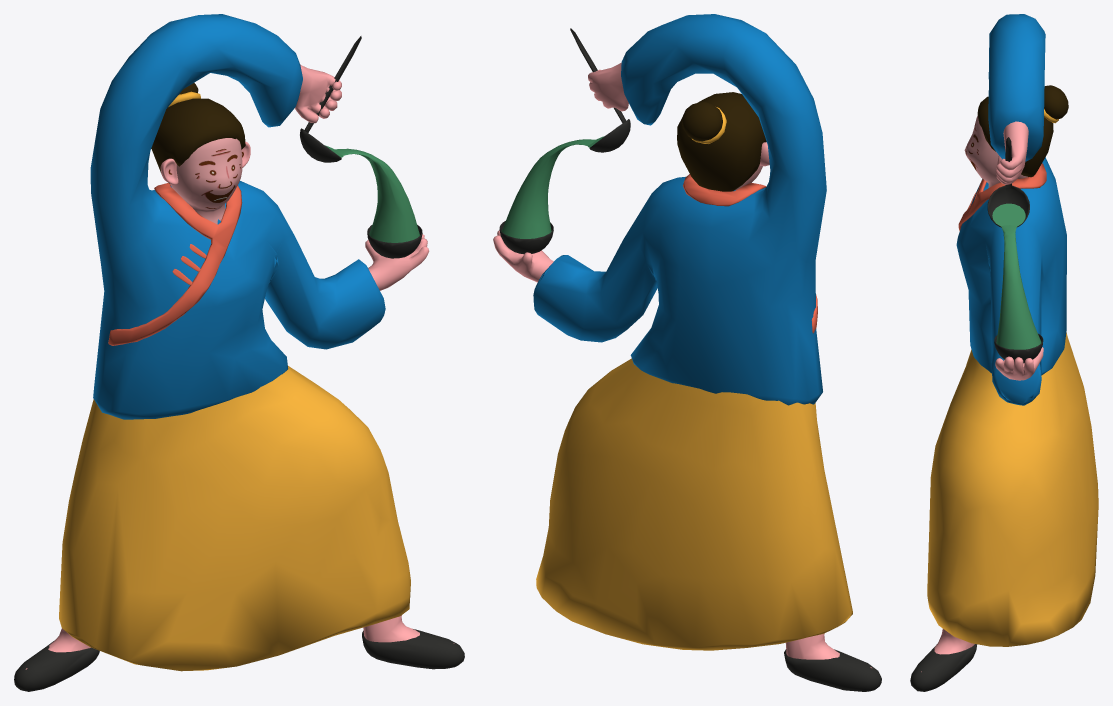
File: mengpo-ar.glb
The picture shows the model from 3 angles, left to right: view 1: azimuth 30°, elevation 25°; view 2: azimuth 150°, elevation 25°; view 3: azimuth 270°, elevation 25°; orthographic projection. The views are drawn at different scales.
Parts seen in each view (by area): view 1: bottom, body, mengpo-7, bin, hair.001, soup in curve, left shoe, right shoe, up hand, bottom hand, hok, left feet (+1 smaller); view 2: bottom, body, hair.001, soup in curve, right shoe, bin, hair ball, up hand, bottom hand, right feet, hok, bowl; view 3: bottom, body, soup in curve, left shoe, up hand, mengpo-7, hair.001, hok, bin, bottom hand, hair ball, soup in hok (+2 smaller).
Boxes of the visible parts, bbox=[...] form: bottom: bbox=[59, 366, 410, 671]; body: bbox=[90, 14, 385, 419]; mengpo-7: bbox=[160, 138, 250, 224]; bin: bbox=[108, 183, 242, 345]; hair.001: bbox=[151, 98, 245, 183]; soup in curve: bbox=[335, 148, 419, 242]; left shoe: bbox=[362, 629, 464, 669]; right shoe: bbox=[14, 641, 99, 691]; up hand: bbox=[294, 64, 341, 123]; bottom hand: bbox=[365, 234, 429, 290]; hok: bbox=[300, 36, 361, 162]; left feet: bbox=[363, 615, 454, 643]; bottom: bbox=[536, 358, 852, 650]; body: bbox=[533, 14, 826, 405]; hair.001: bbox=[677, 92, 766, 191]; soup in curve: bbox=[502, 139, 595, 238]; right shoe: bbox=[784, 649, 881, 691]; bin: bbox=[683, 174, 817, 333]; hair ball: bbox=[682, 101, 722, 141]; up hand: bbox=[588, 62, 628, 111]; bottom hand: bbox=[493, 230, 553, 282]; right feet: bbox=[785, 633, 871, 667]; hok: bbox=[570, 28, 630, 152]; bowl: bbox=[499, 221, 553, 254]; bottom: bbox=[927, 332, 1098, 646]; body: bbox=[956, 14, 1066, 405]; soup in curve: bbox=[996, 225, 1041, 349]; left shoe: bbox=[910, 644, 977, 691]; up hand: bbox=[995, 121, 1028, 184]; mengpo-7: bbox=[964, 116, 1027, 187]; hair.001: bbox=[977, 96, 1053, 177]; hok: bbox=[987, 137, 1029, 227]; bin: bbox=[958, 163, 1046, 230]; bottom hand: bbox=[995, 347, 1043, 380]; hair ball: bbox=[1044, 85, 1068, 119]; soup in hok: bbox=[992, 203, 1025, 226].
Bounding box in the file's own units: 0.5775 × 0.9094 × 0.2664.
14 materials, 2 textured.
